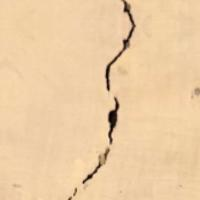crack: (56, 1, 152, 199)
